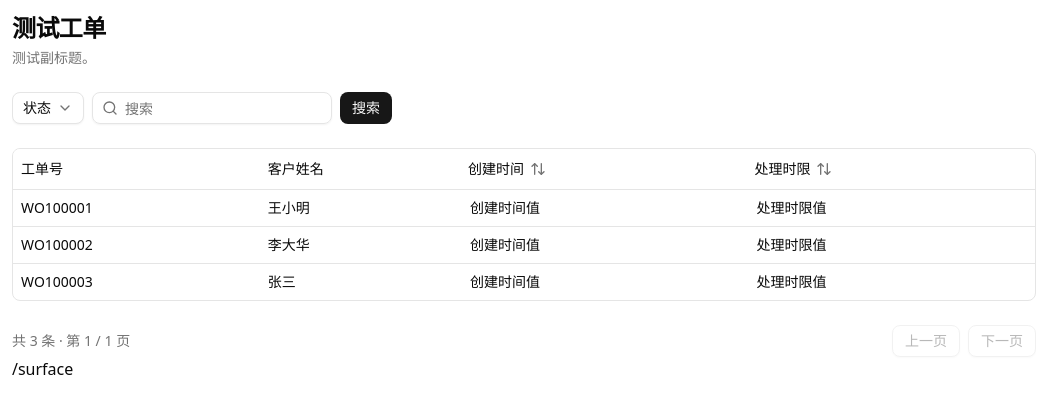
Scenario: URL 筛选态 › 清除钮一键撤掉草稿与已提交的搜索
Type "三丰" into the search field.
click(212, 108); type("三丰")  # box 92,92 -> 332,124
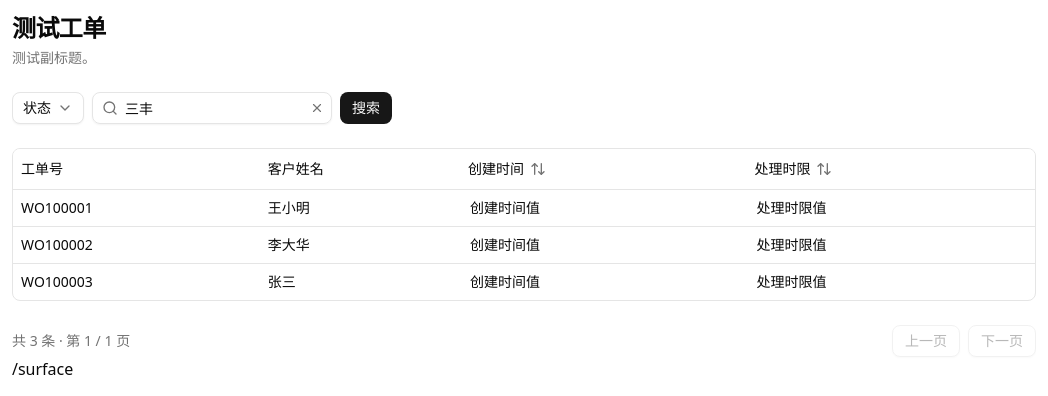
Click the button "搜索".
click(366, 108)  # box 340,92 -> 392,124
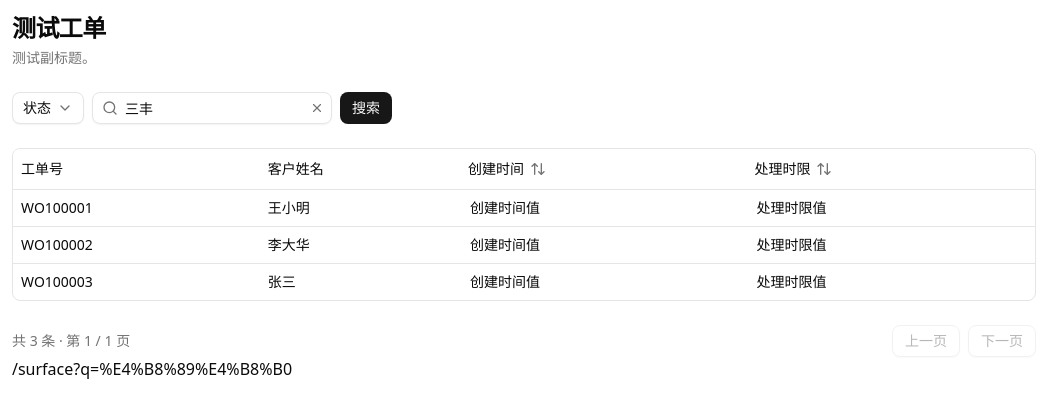
Now the text with test id "location" reads "/surface?q=%E4%B8%89%E4%B8%B0", box 12,358 -> 292,380
Click the button named "清除搜索".
click(317, 108)  # box 310,101 -> 324,115
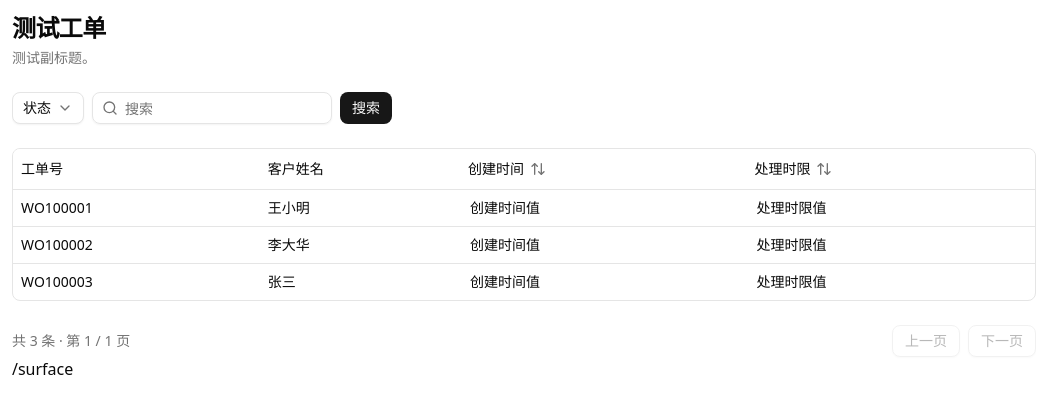
Expected: the text with test id "location" reads "/surface", 12,358 -> 73,380
Now the search field is empty, box 92,92 -> 332,124
